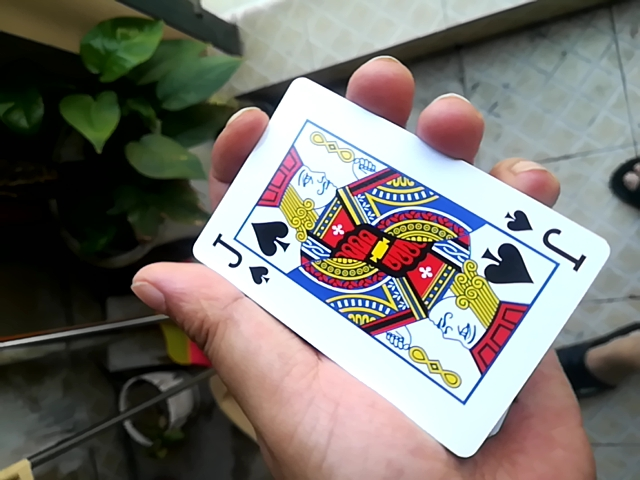ht j: (171, 61, 619, 456)
